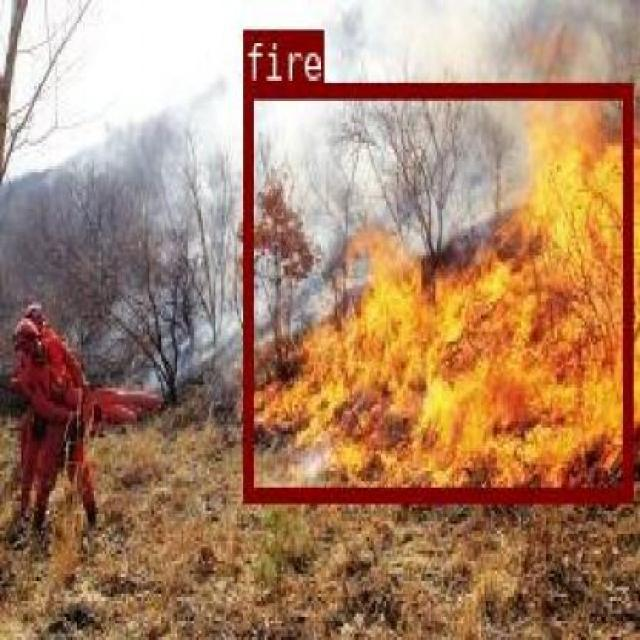Fire: (243, 79, 632, 499)
